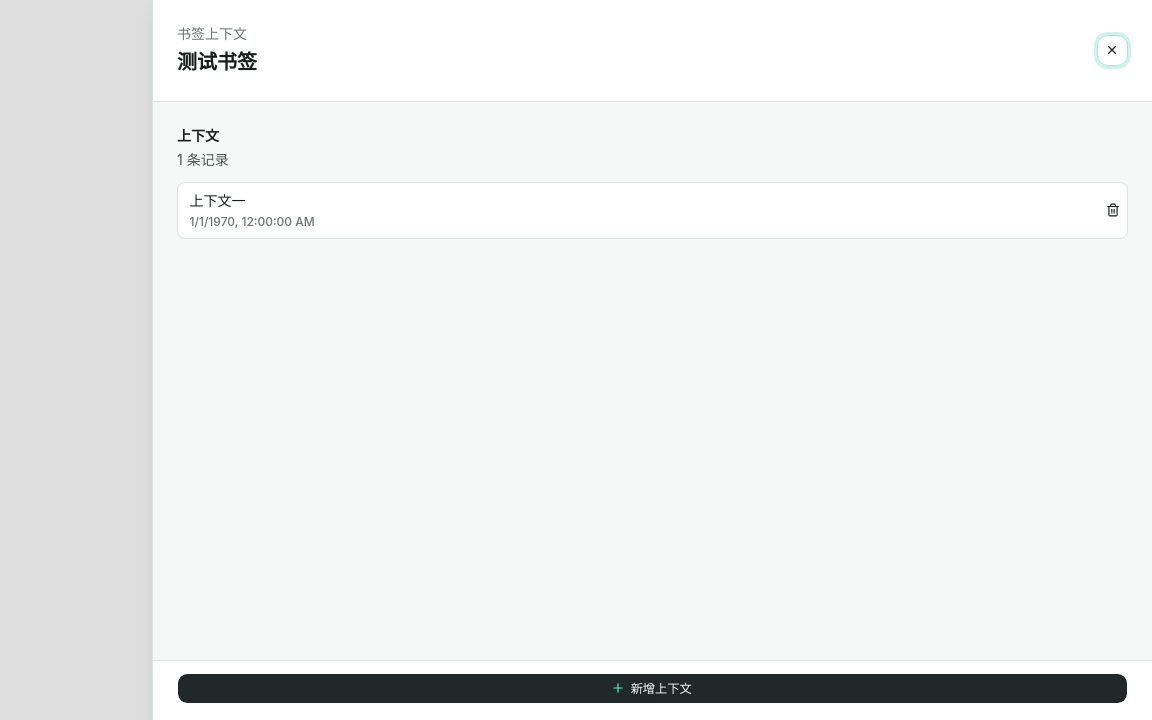
ContextList（T6 Semi List 迁移） › 点击删除按钮只打开确认框，不进入编辑态
This screenshot has width=1152, height=720.
Step 1. Click the button named "删除上下文 上下文一" → (1113, 210), box 1099,196 -> 1127,224
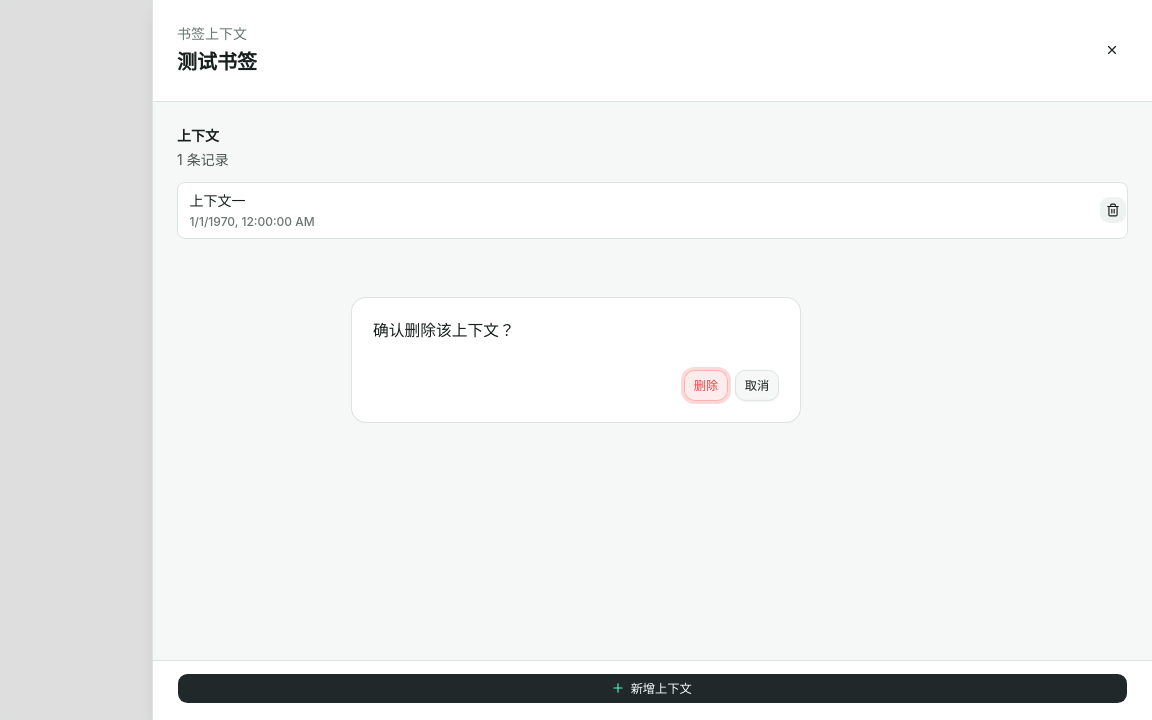
expect the button with aria-label "编辑上下文 上下文一" is shown: met, box 178,183 -> 1091,238
expect the heading "确认删除该上下文？" is shown: met, box 373,319 -> 515,343
